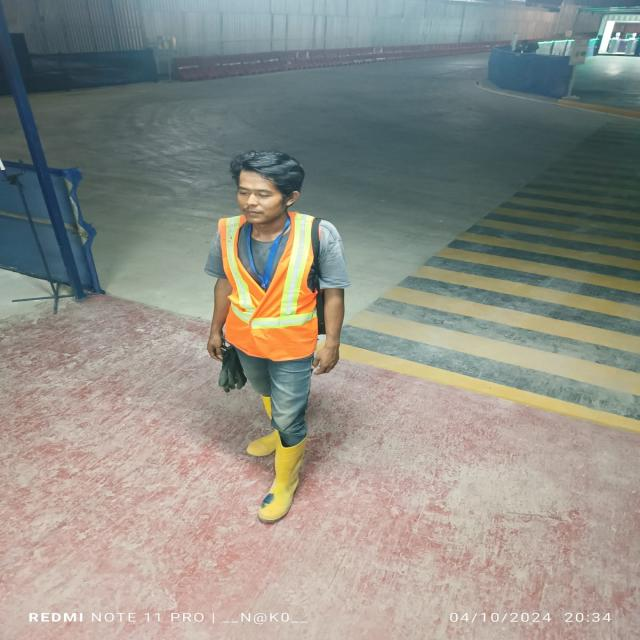gloves: (214, 349, 249, 390)
safety_vest: (220, 218, 317, 360)
